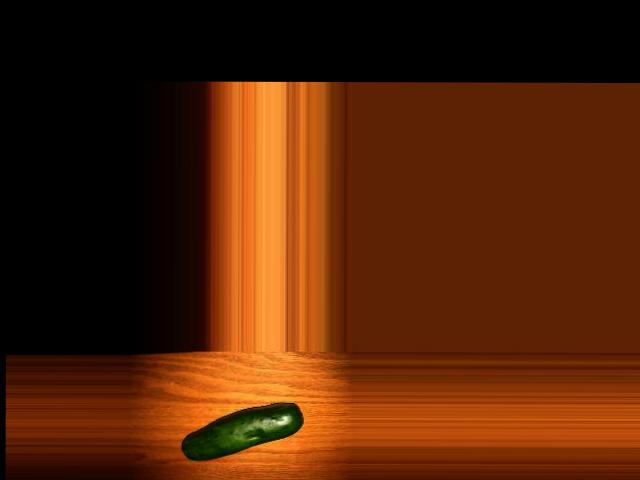cucumber: (181, 402, 301, 460)
